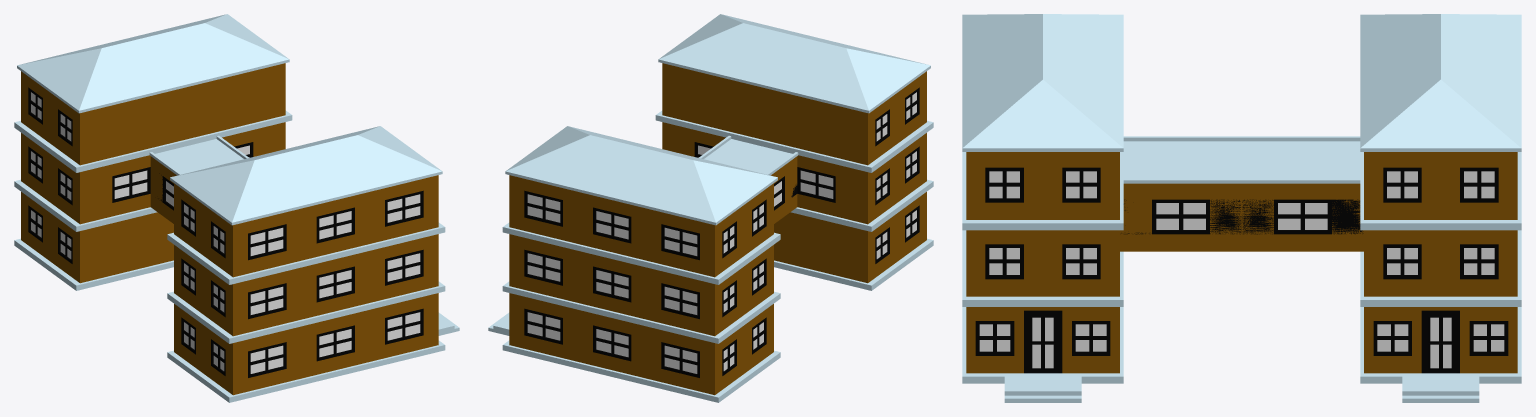
Rendered from Business Building 5.fbx.
3 views of the same model, side by side, from view 1: azimuth 30°, elevation 25°; view 2: azimuth 150°, elevation 25°; view 3: azimuth 270°, elevation 25° (orthographic). The views are drawn at different scales.
Visible parts, largest first — view 1: building_001; view 2: building_001; view 3: building_001.
Boxes of the visible parts, bbox=[...] form: building_001: bbox=[14, 14, 459, 402]; building_001: bbox=[488, 14, 933, 402]; building_001: bbox=[962, 14, 1521, 402].
Bounding box in the file's own units: 963 × 770 × 1455.
